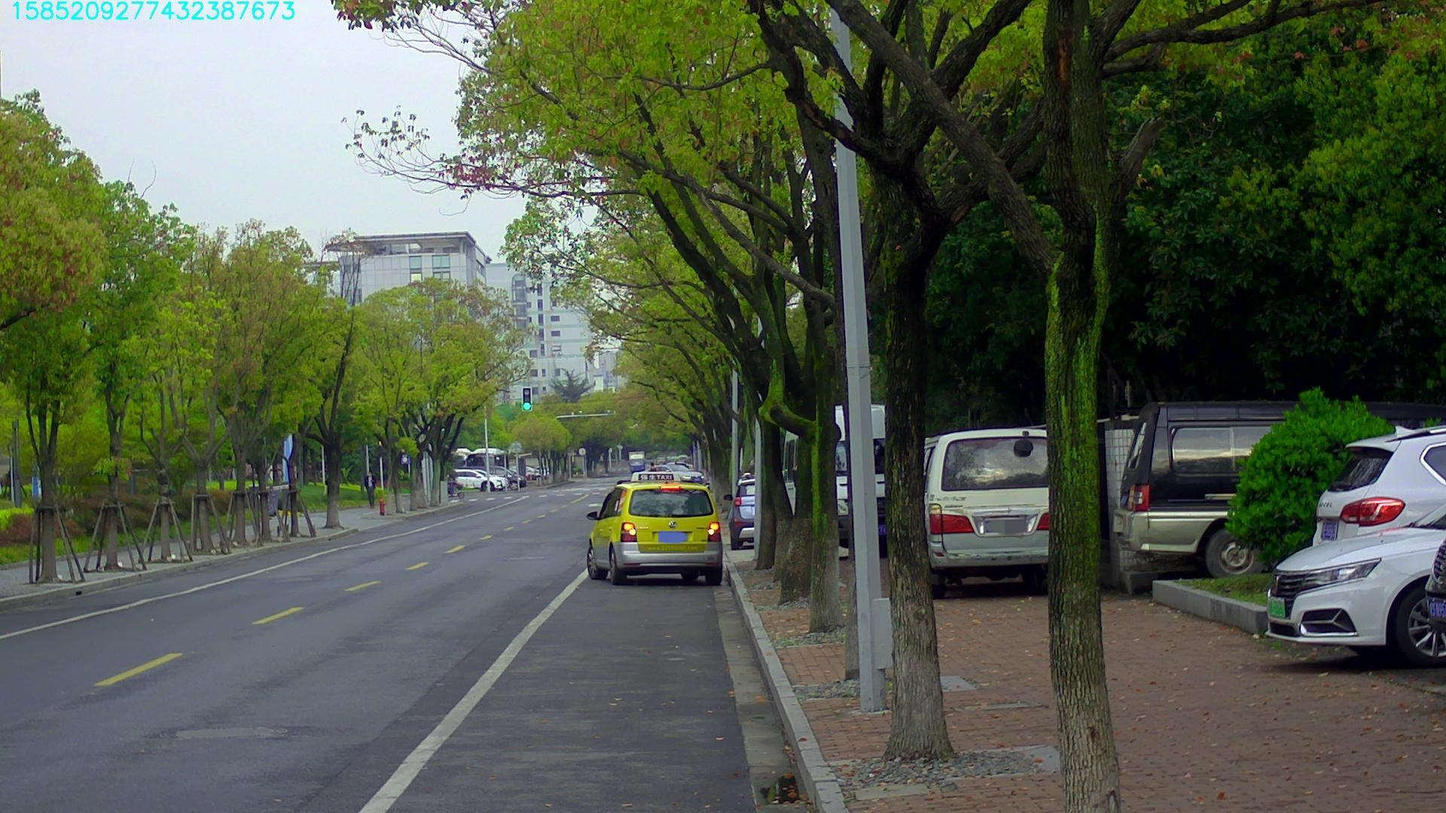green: (521, 387, 531, 410)
